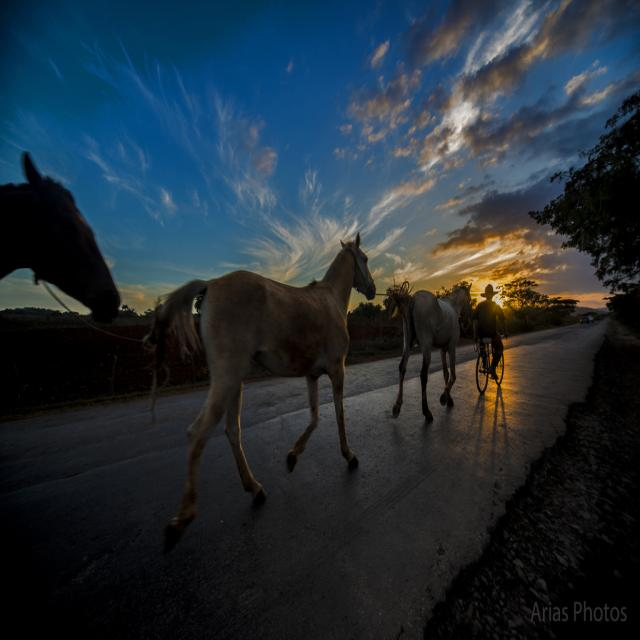Horse: (142, 231, 376, 536), (0, 150, 123, 324), (390, 284, 471, 420)
